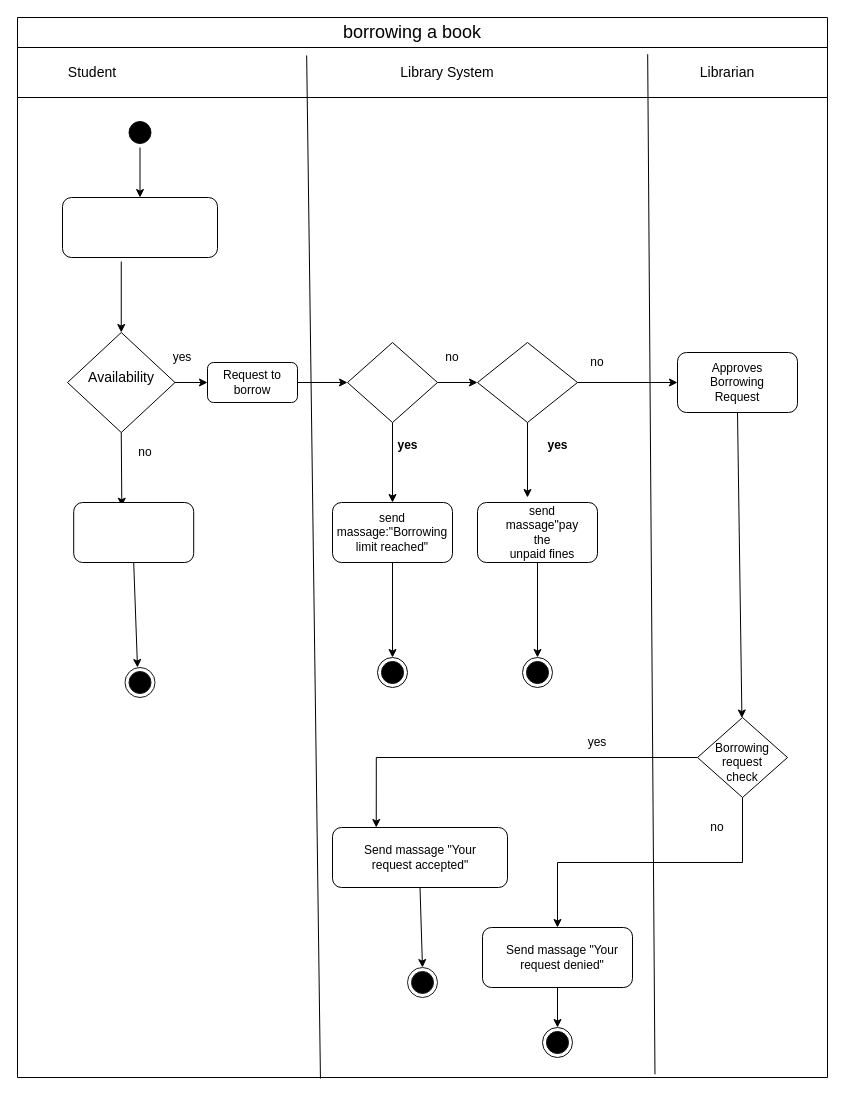
The diagram is 845 pixels wide and 1098 high, and some of its shapes have lost their labels. Each missing label, with the centre of its shape:
Borrow limit reched: [392,382]
Check for Unpaid Fines: [527,382]
reserve the book .: [133,532]
Searches for a Book: [140,227]
